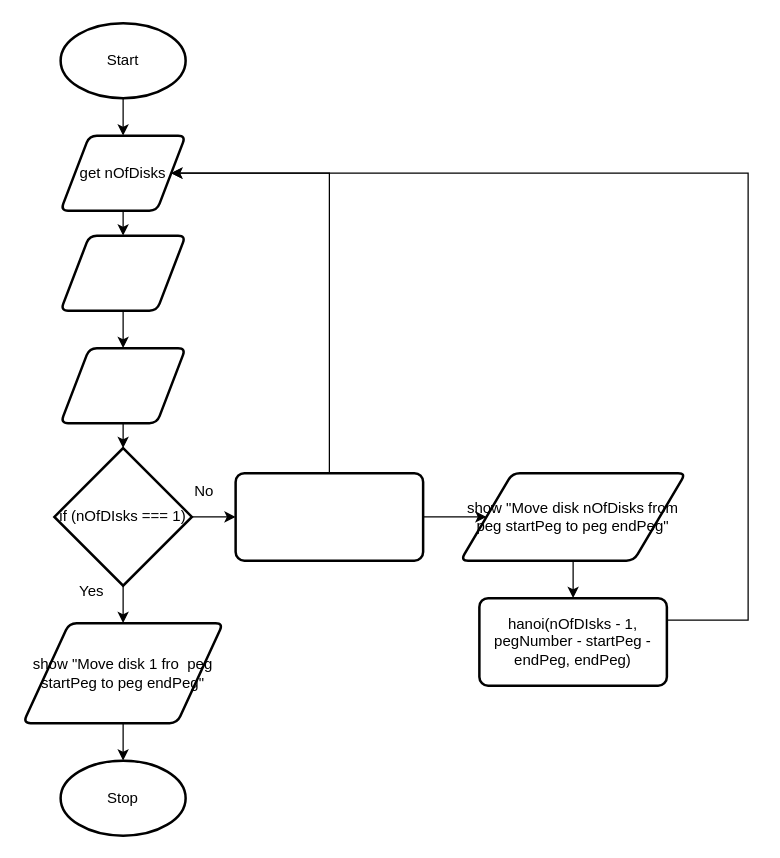
Some shapes in this 780 by 858 pixel diagram are drawn without their labels. Each missing label, with the box of its shape:
get endPeg: (59, 346, 186, 424)
get startPeg: (59, 234, 186, 311)
hanoi(nOfDIsks - 1, startPeg, pegNumber - startPeg - endPeg): (234, 471, 424, 561)
